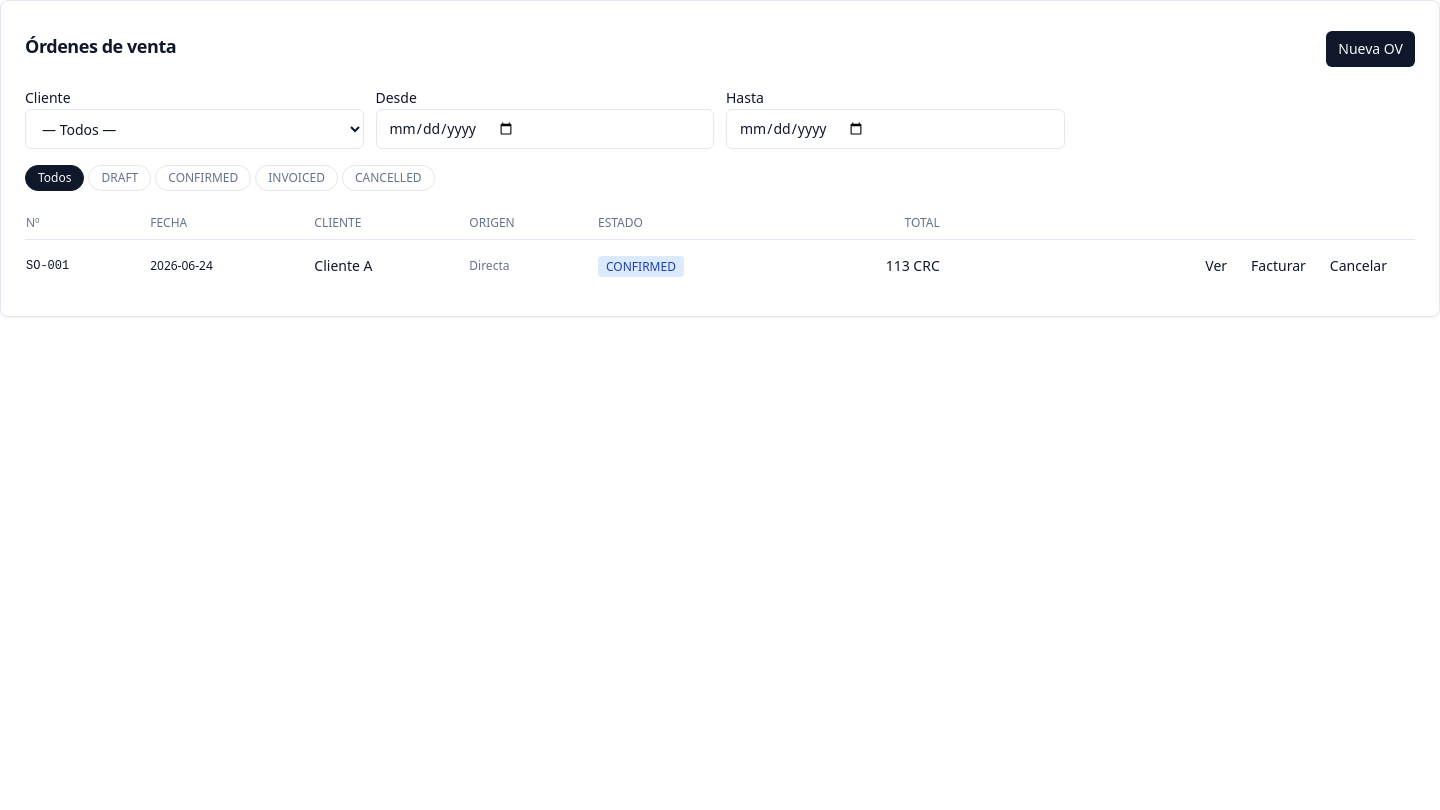
Test: SalesOrdersPage — selector de nivel de precio por línea (PR-38) › override manual del precio se respeta; margen ef. refleja el override
Click the button "Nueva OV": (1371, 49) [1326, 31, 1415, 67]
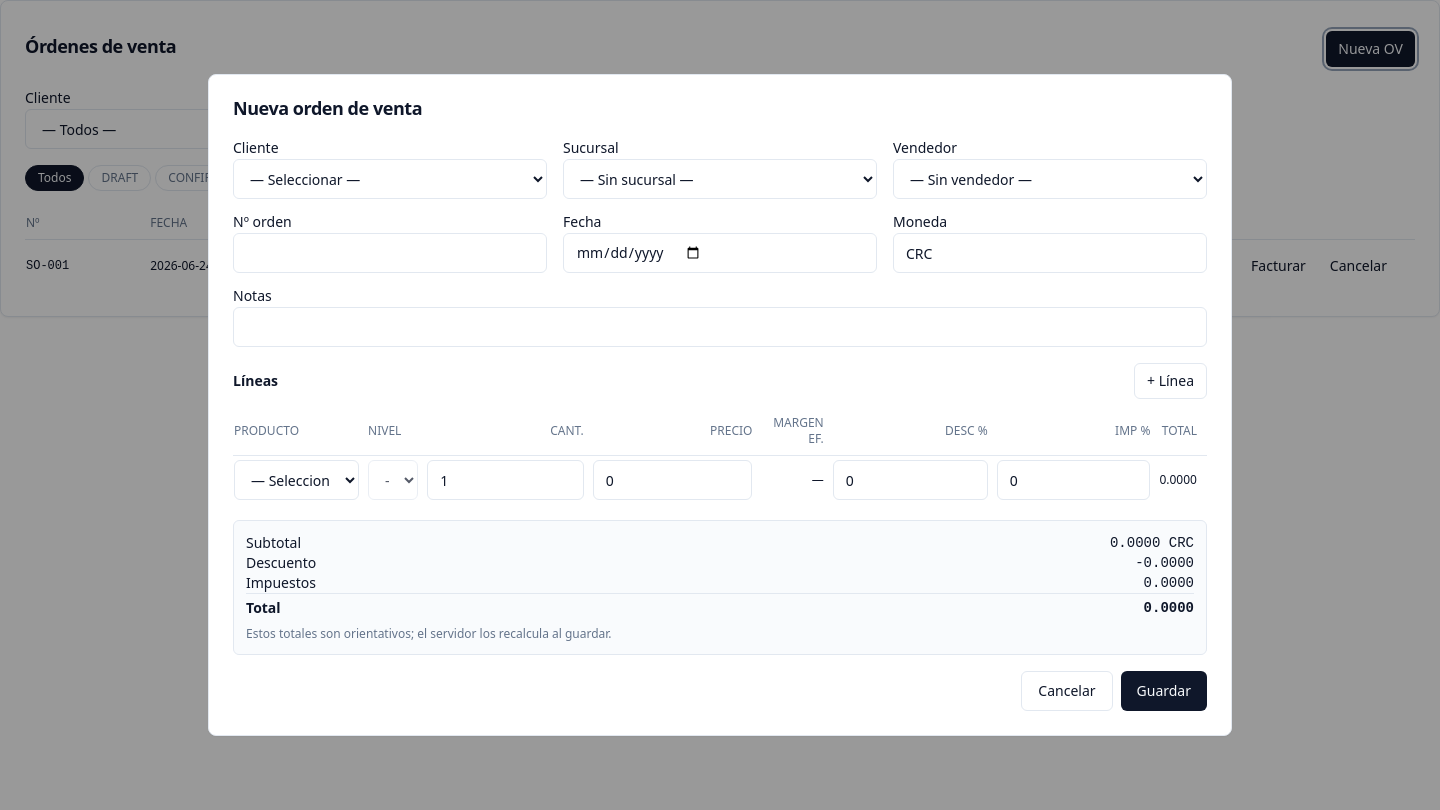
Expected: the dropdown named "producto línea 1" is shown, [234, 460, 359, 500]
Select "Cliente A" in the dropdown with id "so-cust": (390, 179) [233, 159, 547, 199]
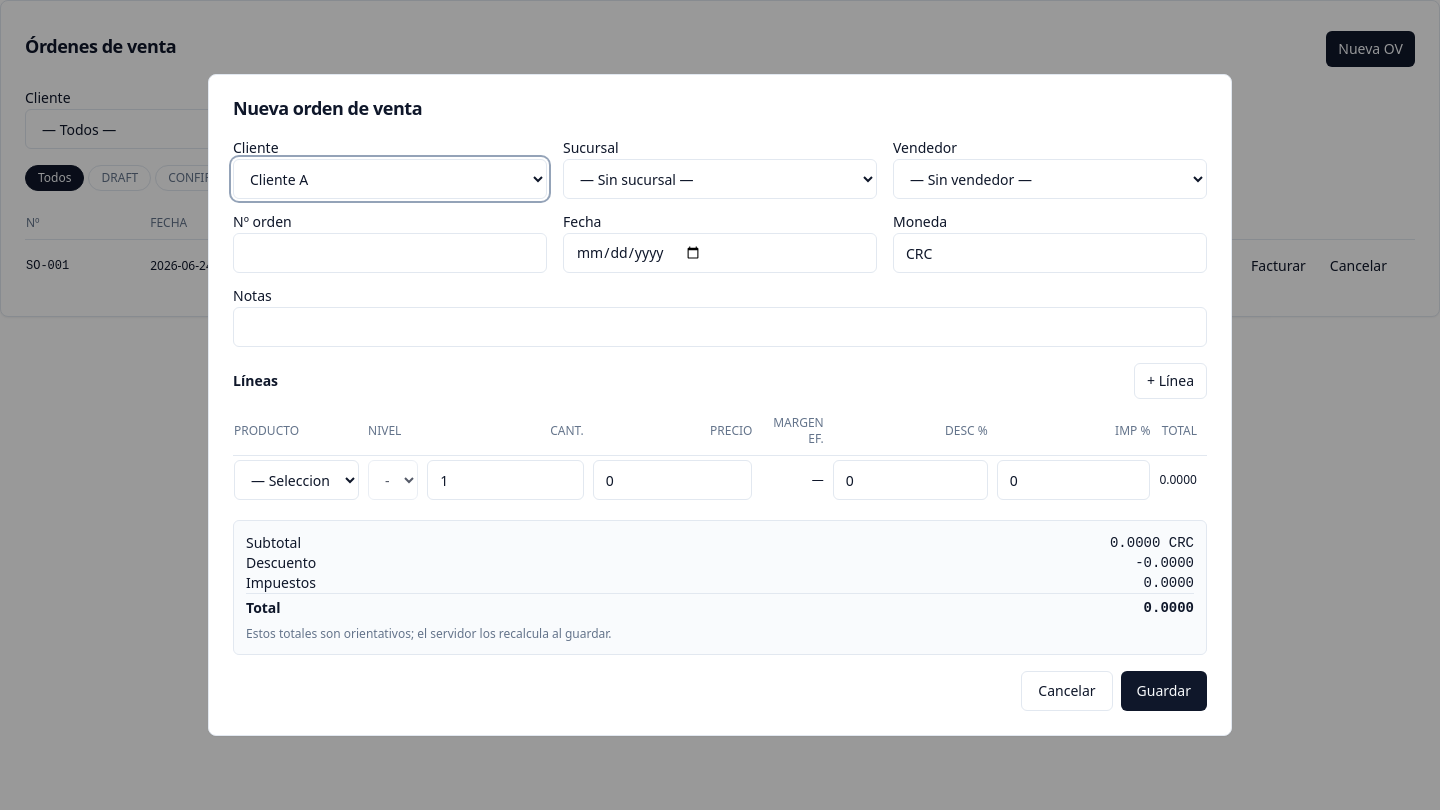
Select "P-1 — Producto 1" in the dropdown named "producto línea 1": (297, 480) [234, 460, 359, 500]
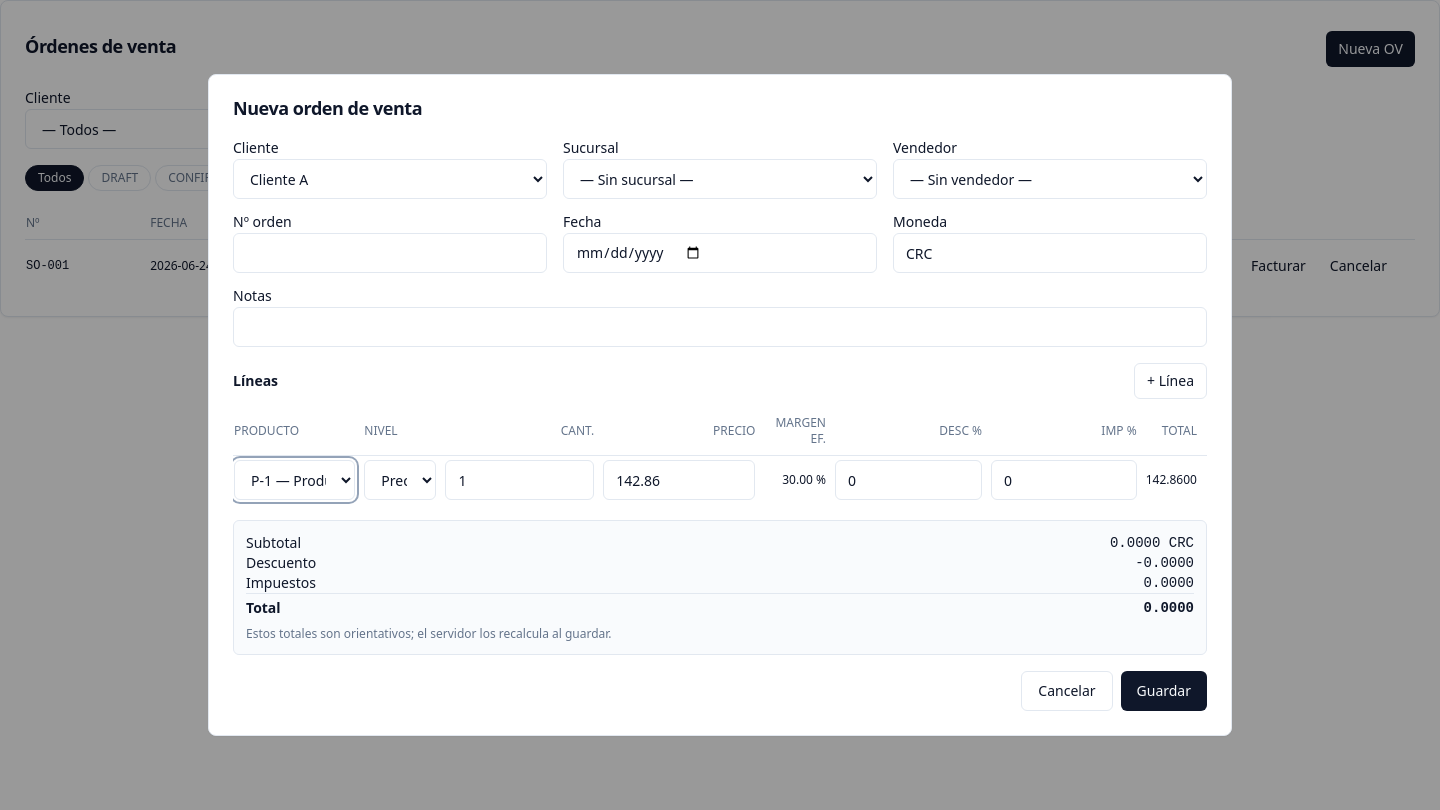
Expected: the dropdown with test id "so-line-level-0" shows "Precio 1", [364, 460, 436, 500]
Clear the field named "precio línea 1": (679, 480) [603, 460, 756, 500]
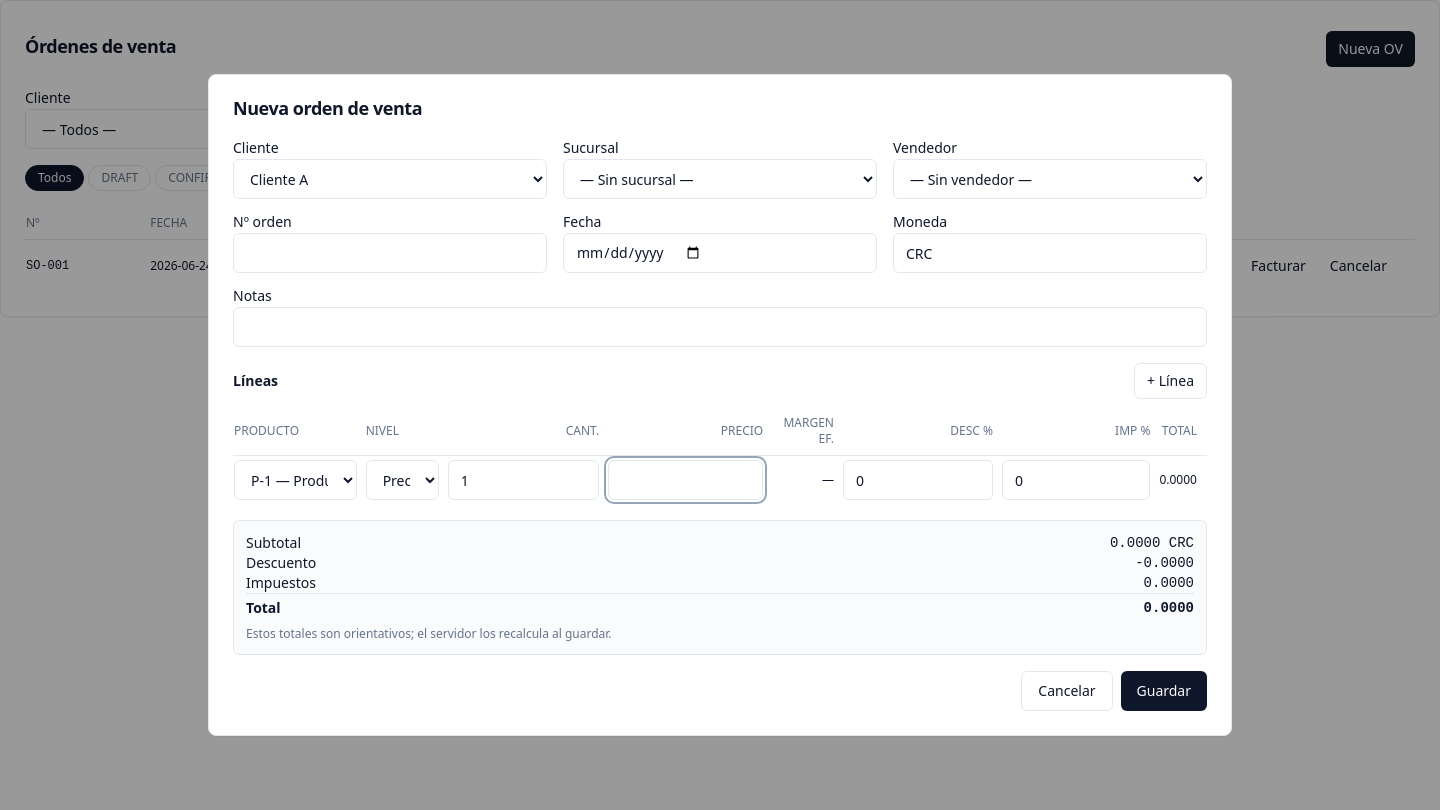
In the field named "precio línea 1": (686, 480) [608, 460, 763, 500], type "130"
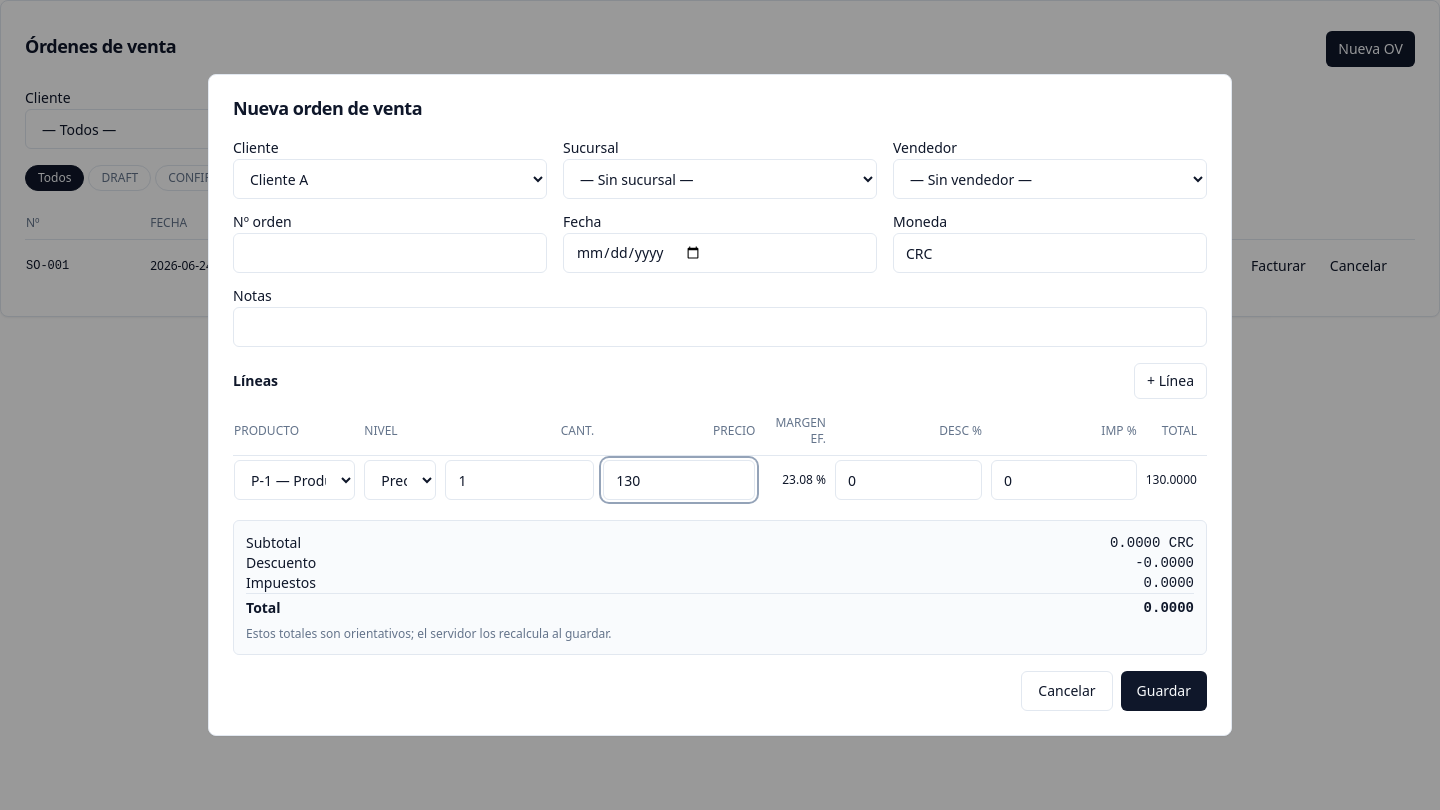
Expected: the dropdown with test id "so-line-level-0" shows "Precio 1", [364, 460, 436, 500]
Expected: the cell with test id "so-line-margin-0" reads "23.08 %", [782, 471, 826, 488]
